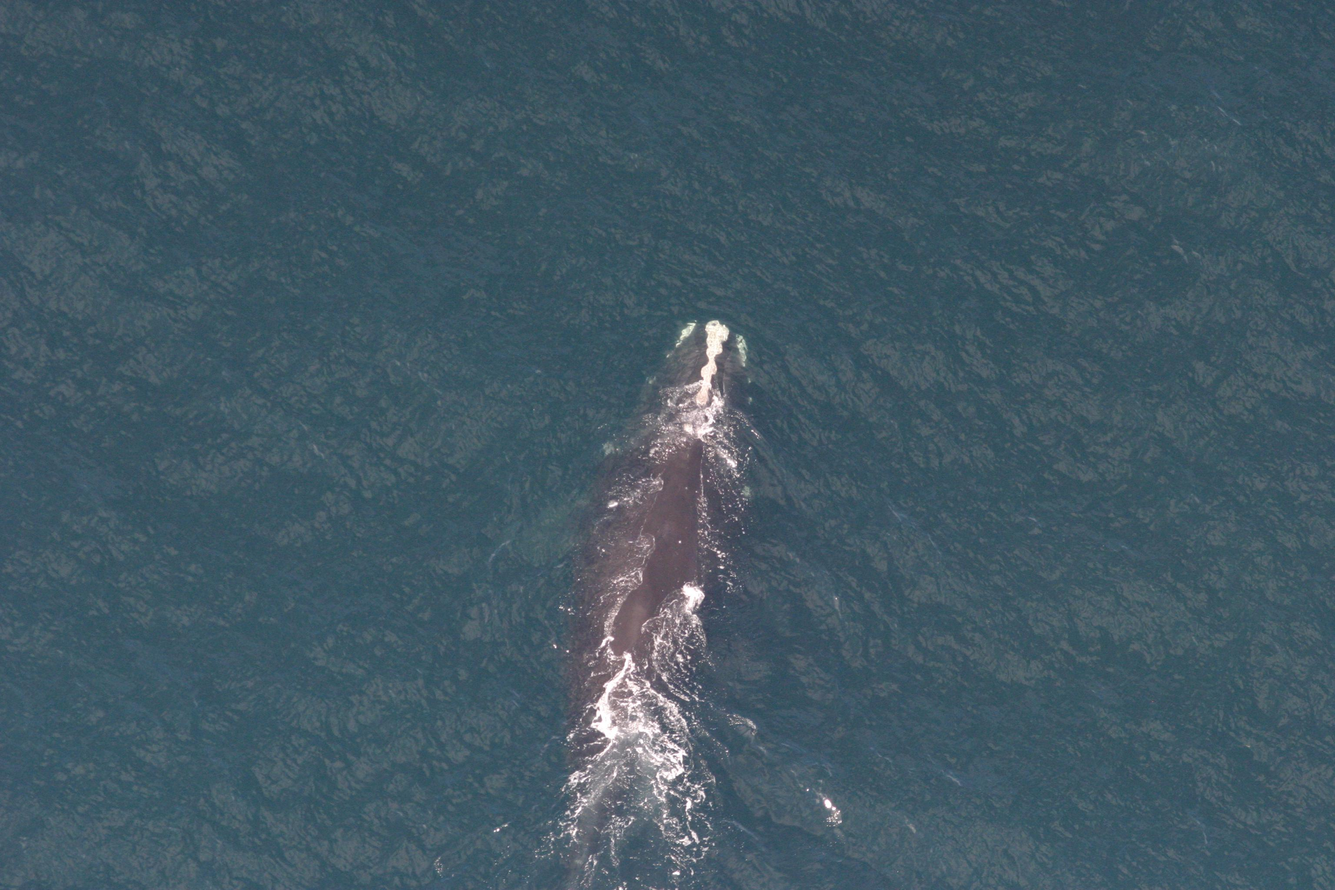whale: (515, 312, 776, 890)
